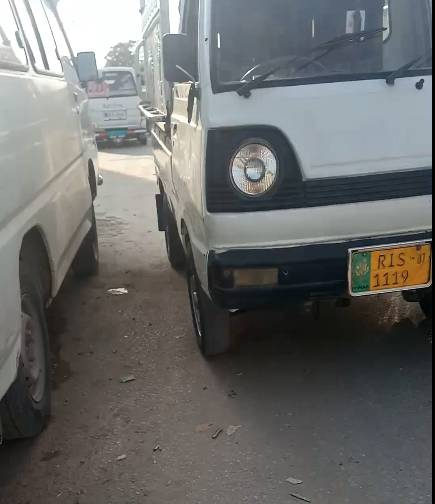number_plate: (346, 243, 435, 297)
